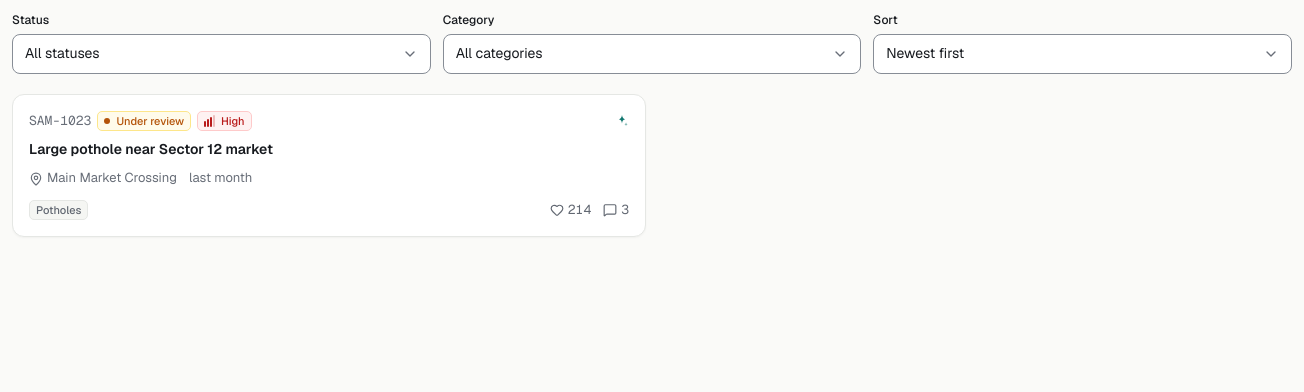
Test: MyProblemsList › distinguishes an empty account from an empty filter result
Click the dropdown labelled "All statuses". click: click(62, 53)
box: x1=12 y1=34 x2=431 y2=74
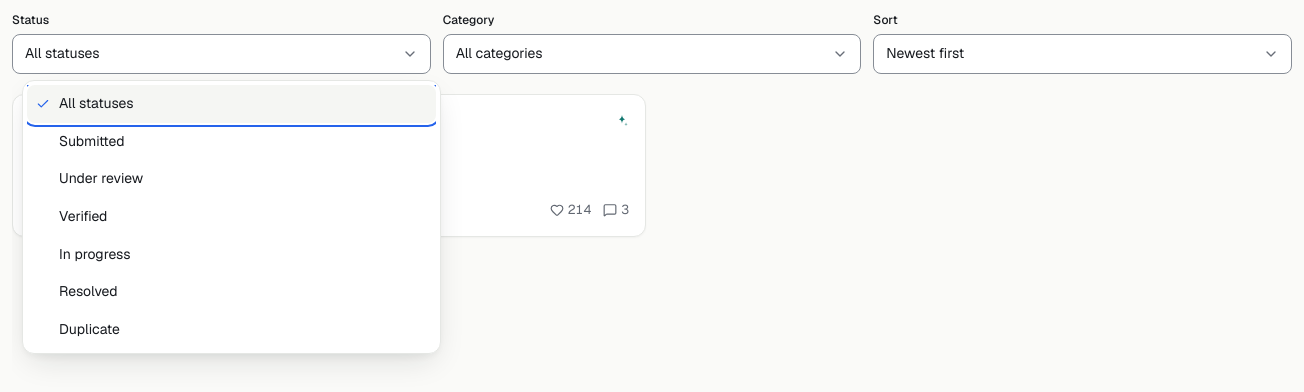
Click the option "Resolved". click: click(88, 291)
box: x1=59 y1=282 x2=118 y2=300
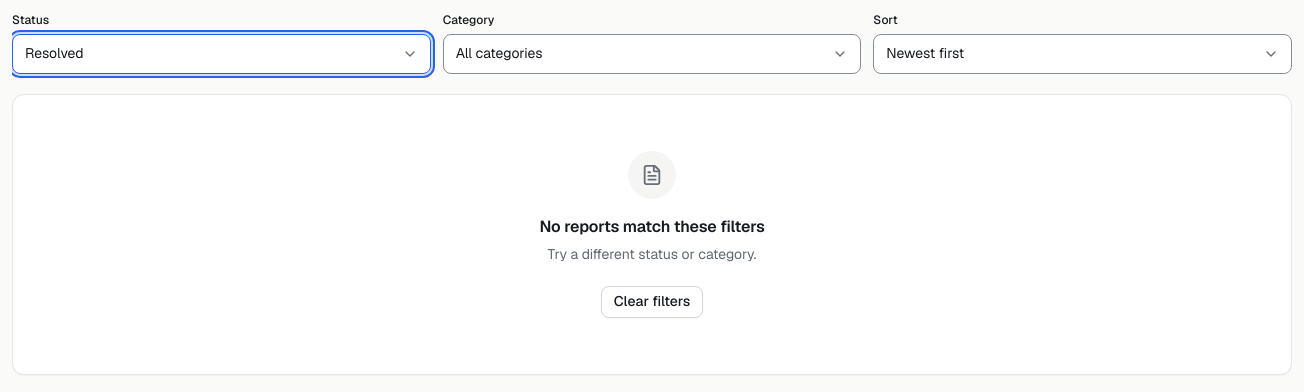
Check: the heading "No reports match these filters" is shown, box x1=539 y1=215 x2=765 y2=238
